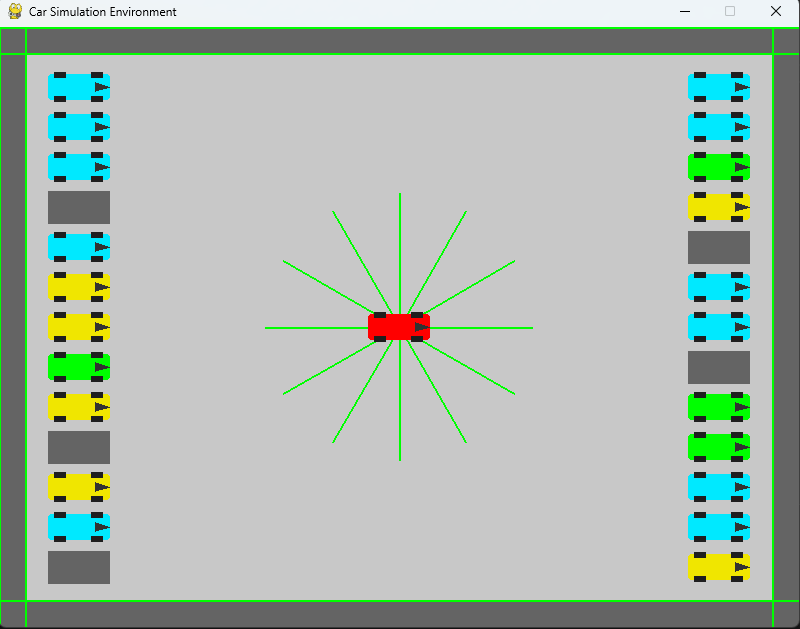ControlledCar: (357, 304, 440, 346)
ParkedCar: (682, 265, 753, 310), (684, 425, 750, 468), (685, 147, 755, 187), (682, 71, 756, 108), (39, 350, 118, 383), (43, 272, 115, 308), (685, 509, 753, 547), (686, 111, 753, 147), (685, 550, 753, 585), (45, 392, 117, 425), (47, 468, 111, 505), (45, 68, 110, 104), (48, 228, 112, 264), (683, 312, 754, 344), (45, 150, 113, 183), (46, 513, 113, 546), (684, 192, 755, 223), (684, 473, 754, 504), (46, 112, 111, 145), (683, 390, 750, 421), (46, 312, 112, 343)
ParkingSpot: (46, 547, 119, 589), (43, 186, 115, 228), (686, 347, 755, 389), (681, 232, 758, 268), (46, 427, 112, 467)
